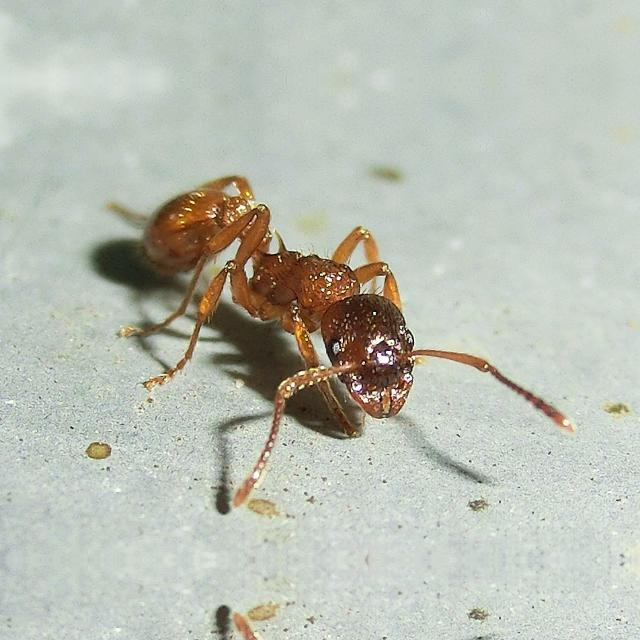Myrmica: (111, 146, 499, 454)
